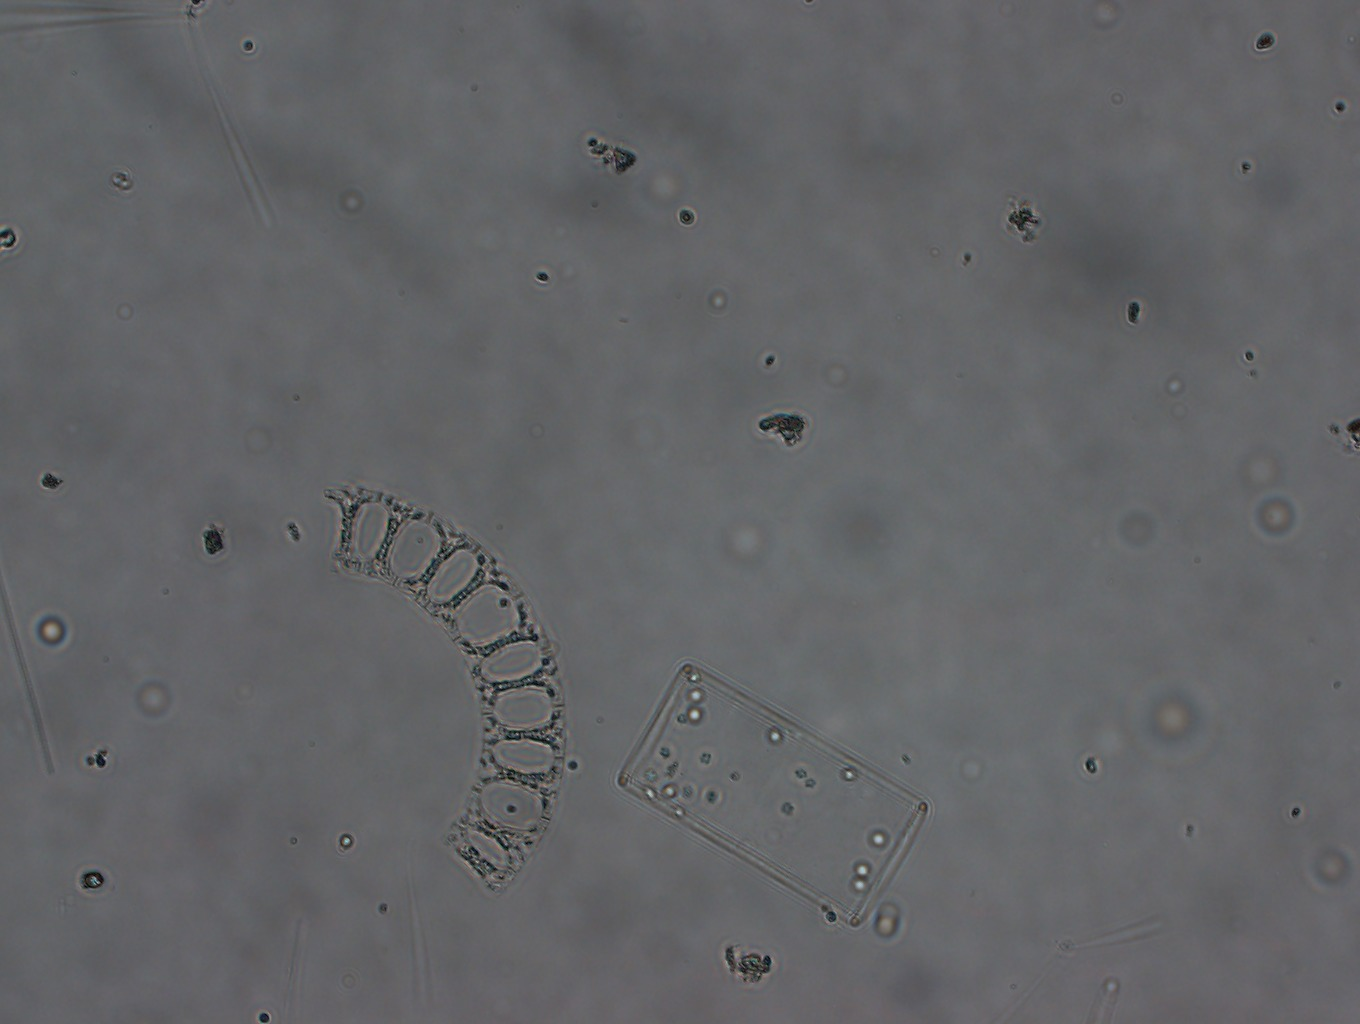eucampia: (306, 470, 572, 898)
guinardia flaccida: (612, 656, 931, 931)
